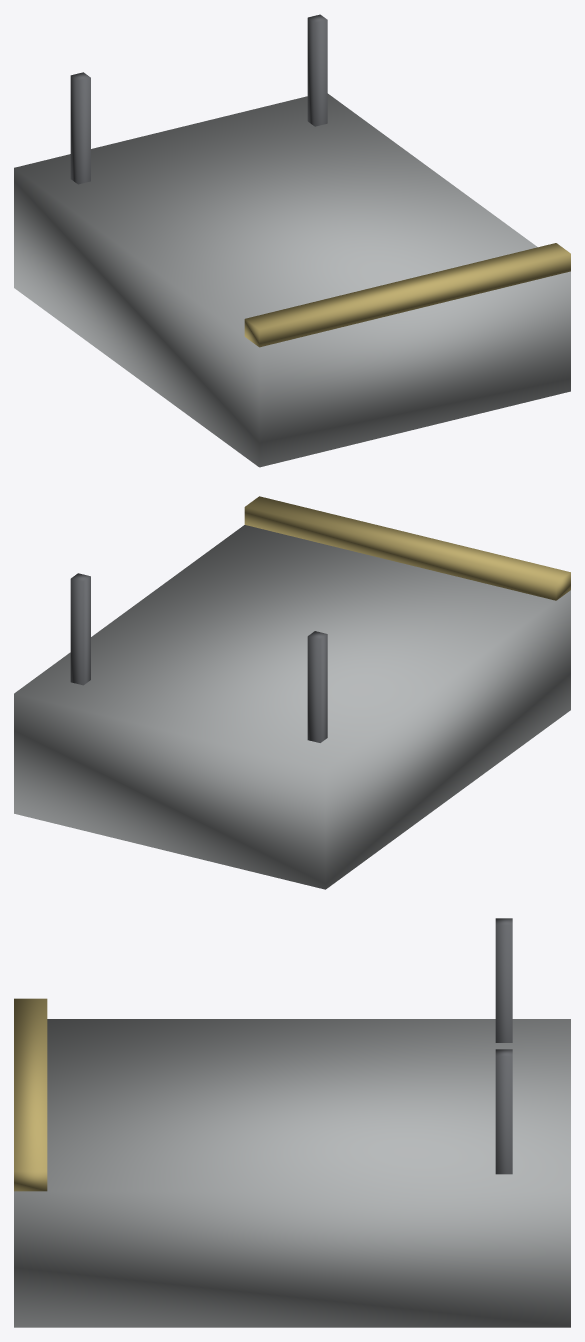
File: loading_dock_15.glb
The picture shows the model from 3 angles, top to bottom: view 1: azimuth 30°, elevation 25°; view 2: azimuth 150°, elevation 25°; view 3: azimuth 270°, elevation 25°; orthographic projection. The views are drawn at different scales.
Parts seen in each view (by area): view 1: world; view 2: world; view 3: world.
Part boxes in pixels (x1,y1,x2,y2): world: [14, 14, 570, 467]; world: [14, 496, 570, 889]; world: [14, 918, 570, 1327].
Size of the model in its own units: 2.2 by 1.51 by 3.
